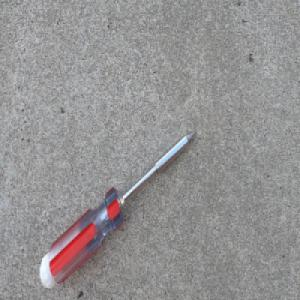Screwdriver: (38, 128, 197, 292)
